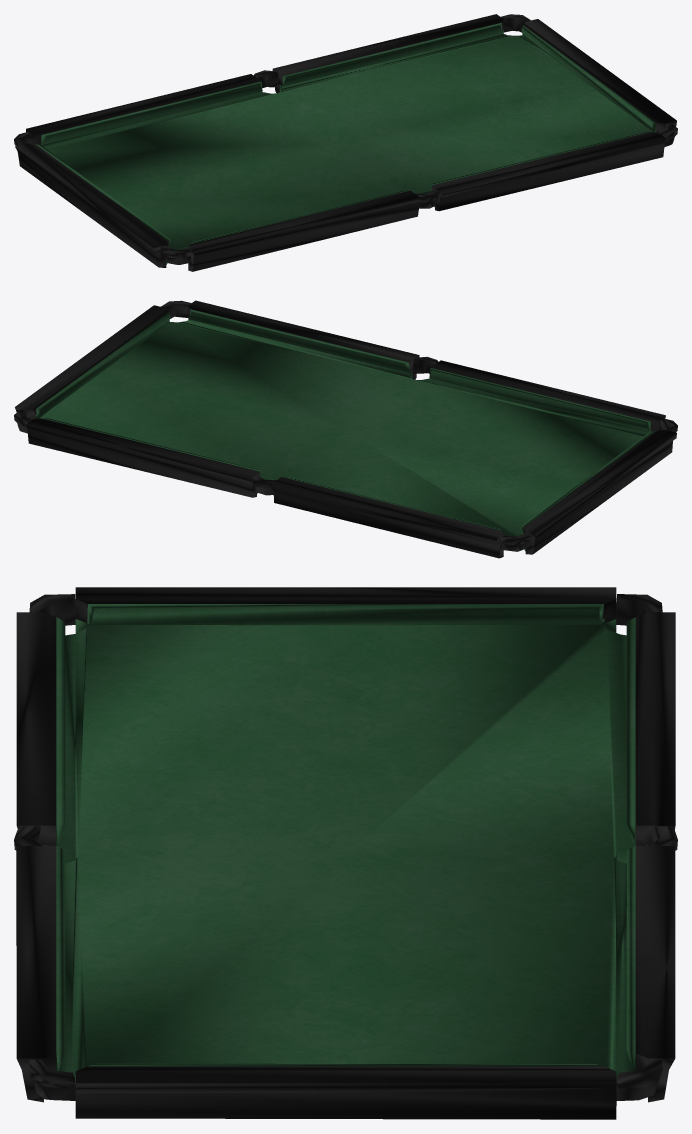
Rendered from Maps3.fbx.
The picture shows the model from 3 angles, top to bottom: view 1: azimuth 30°, elevation 25°; view 2: azimuth 150°, elevation 25°; view 3: azimuth 270°, elevation 25°; orthographic projection. The views are drawn at different scales.
Parts seen in each view (by area): view 1: Cube.010_bida_0.001_bida_0_bida_0; view 2: Cube.010_bida_0.001_bida_0_bida_0; view 3: Cube.010_bida_0.001_bida_0_bida_0.
Boxes of the visible parts, bbox=[...] form: Cube.010_bida_0.001_bida_0_bida_0: bbox=[14, 14, 677, 271]; Cube.010_bida_0.001_bida_0_bida_0: bbox=[14, 300, 677, 558]; Cube.010_bida_0.001_bida_0_bida_0: bbox=[14, 587, 677, 1119].
Size of the model in its own units: 863 by 35.88 by 488.
